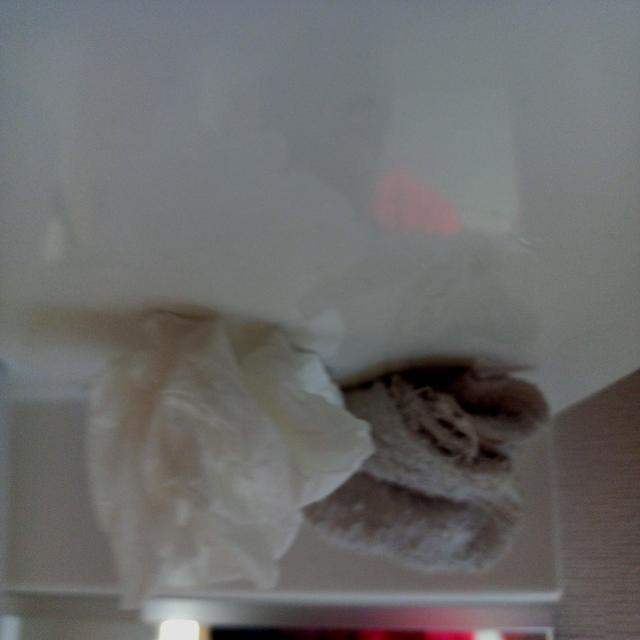Paper: (64, 290, 368, 614)
